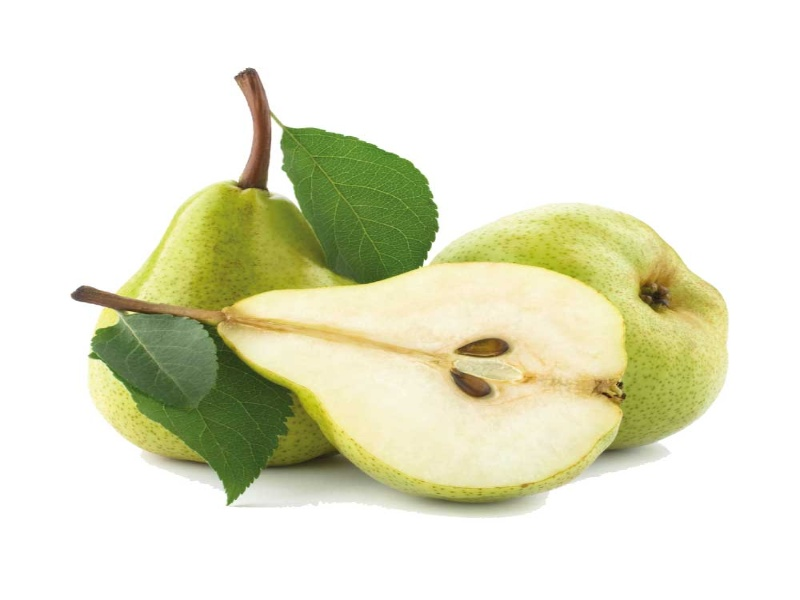Pera: (74, 262, 628, 502), (88, 66, 396, 466), (432, 205, 731, 452)
